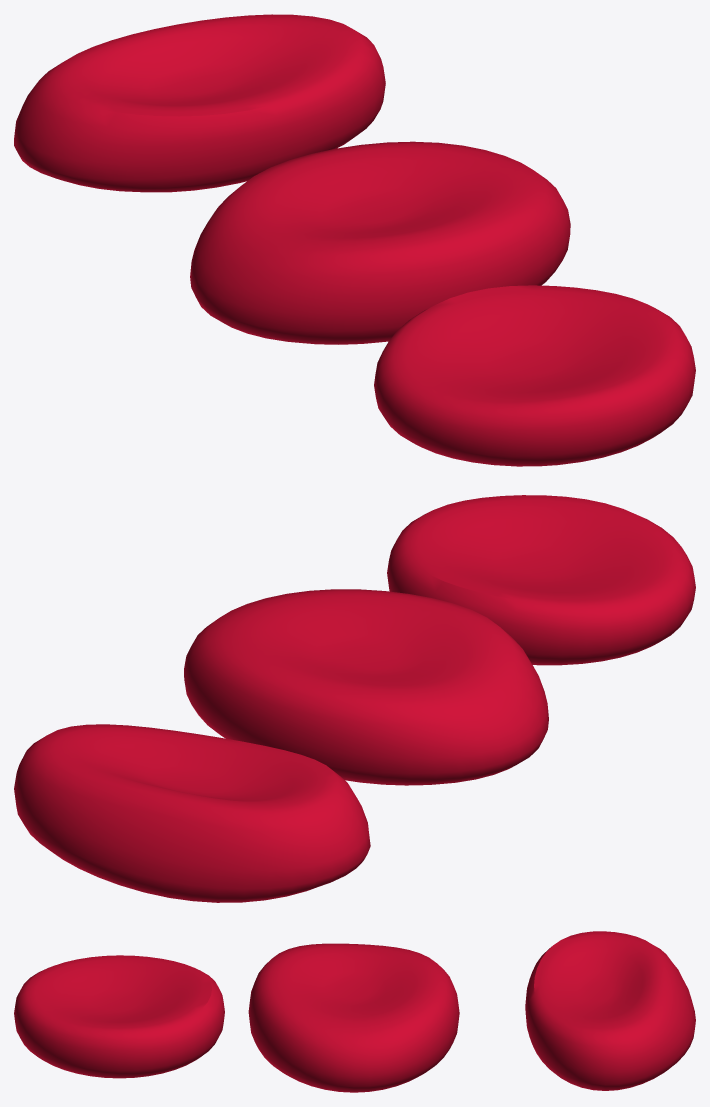
The model's file is Hemoglabinler-3.fbx.
3 views of the same model, one above another, from view 1: azimuth 30°, elevation 25°; view 2: azimuth 150°, elevation 25°; view 3: azimuth 270°, elevation 25° (orthographic). The views are drawn at different scales.
Parts seen in each view (by area): view 1: hemoglabin2, hemoglabin3, hemoglabin1; view 2: hemoglabin2, hemoglabin3, hemoglabin1; view 3: hemoglabin2, hemoglabin3, hemoglabin1.
Part boxes in pixels (left/top/right/bottom): hemoglabin2: left=190, top=141, right=570, bottom=344; hemoglabin3: left=14, top=14, right=385, bottom=192; hemoglabin1: left=374, top=285, right=695, bottom=466; hemoglabin2: left=184, top=589, right=548, bottom=785; hemoglabin3: left=14, top=724, right=370, bottom=902; hemoglabin1: left=387, top=495, right=695, bottom=665; hemoglabin2: left=248, top=943, right=459, bottom=1092; hemoglabin3: left=525, top=931, right=695, bottom=1090; hemoglabin1: left=14, top=955, right=224, bottom=1078.
Bounding box in the file's own units: 267 × 77.55 × 646.
